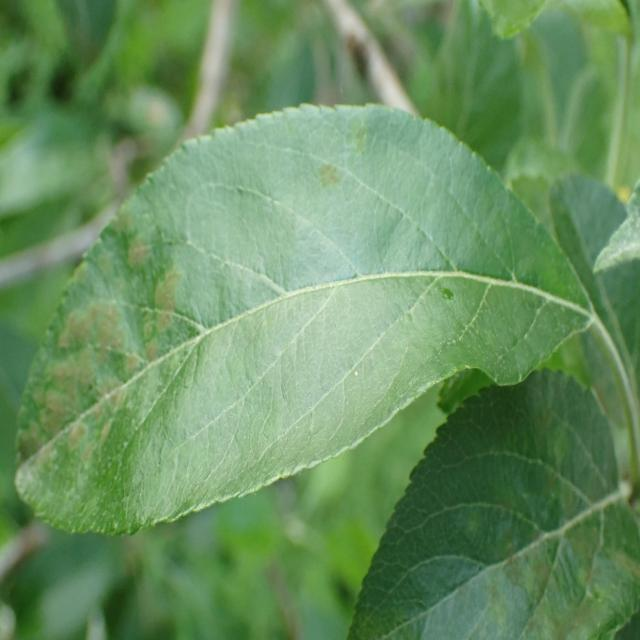scab: (0, 120, 517, 474)
